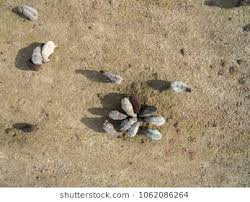sheep: (168, 77, 193, 98), (101, 67, 125, 87), (16, 2, 38, 23), (103, 106, 125, 122), (40, 39, 56, 60), (101, 119, 119, 137), (119, 98, 136, 117), (29, 43, 42, 66), (141, 126, 161, 140), (139, 103, 157, 118), (119, 115, 137, 129), (139, 116, 166, 125), (22, 122, 40, 134), (6, 127, 20, 137)
